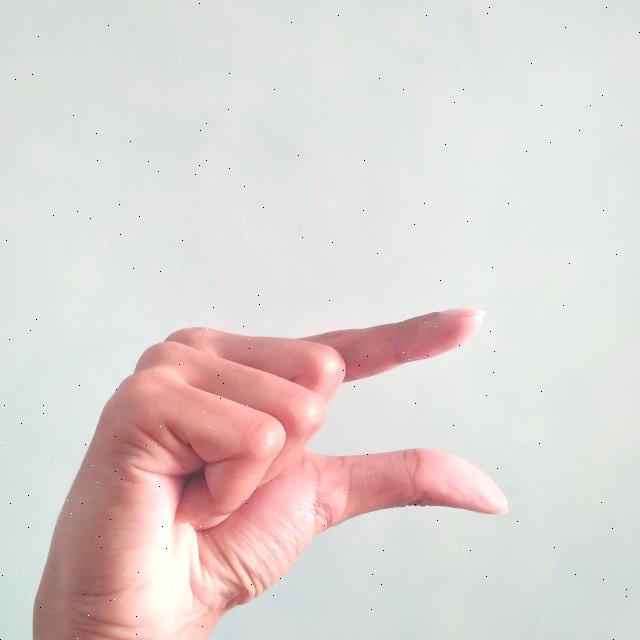G: (30, 303, 513, 640)
